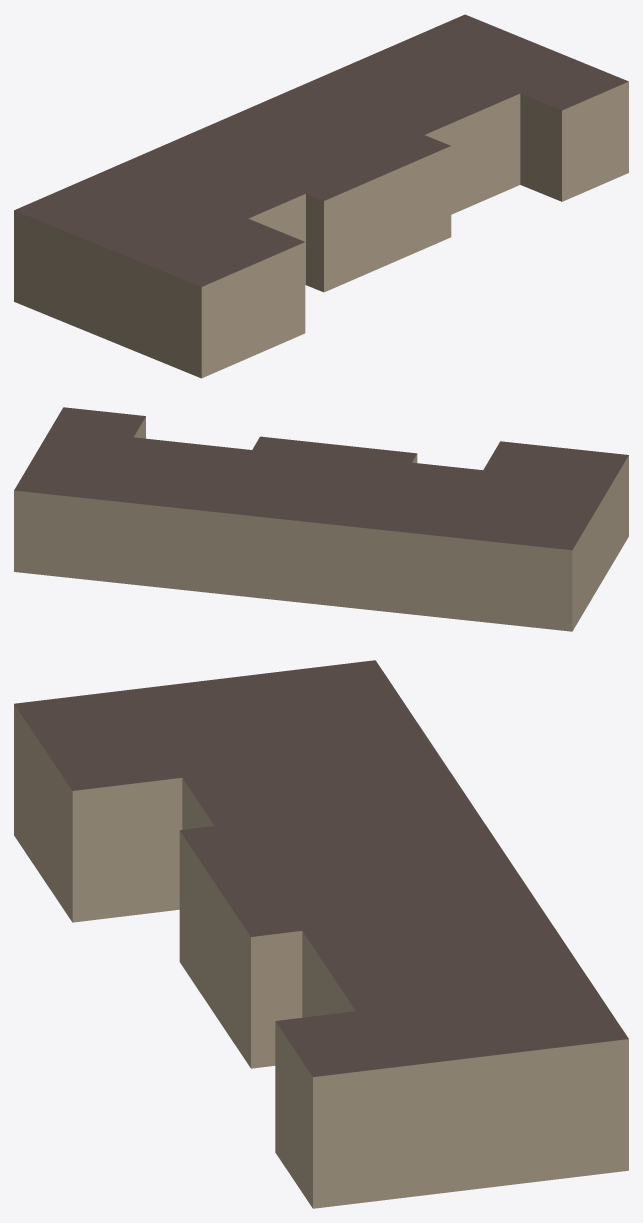
3 views of the same model, one above another, from view 1: azimuth 30°, elevation 25°; view 2: azimuth 150°, elevation 25°; view 3: azimuth 270°, elevation 25° (orthographic). The views are drawn at different scales.
Visible parts, largest first — view 1: HP-w1376988739; view 2: HP-w1376988739; view 3: HP-w1376988739.
Boxes of the visible parts, x1,y1,x2,y2 form: HP-w1376988739: (14, 14, 628, 378); HP-w1376988739: (14, 407, 628, 631); HP-w1376988739: (14, 660, 628, 1208).
Size of the model in its own units: 40.75 by 6 by 25.4.
